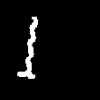half_double_crochet: (18, 17, 37, 78)
